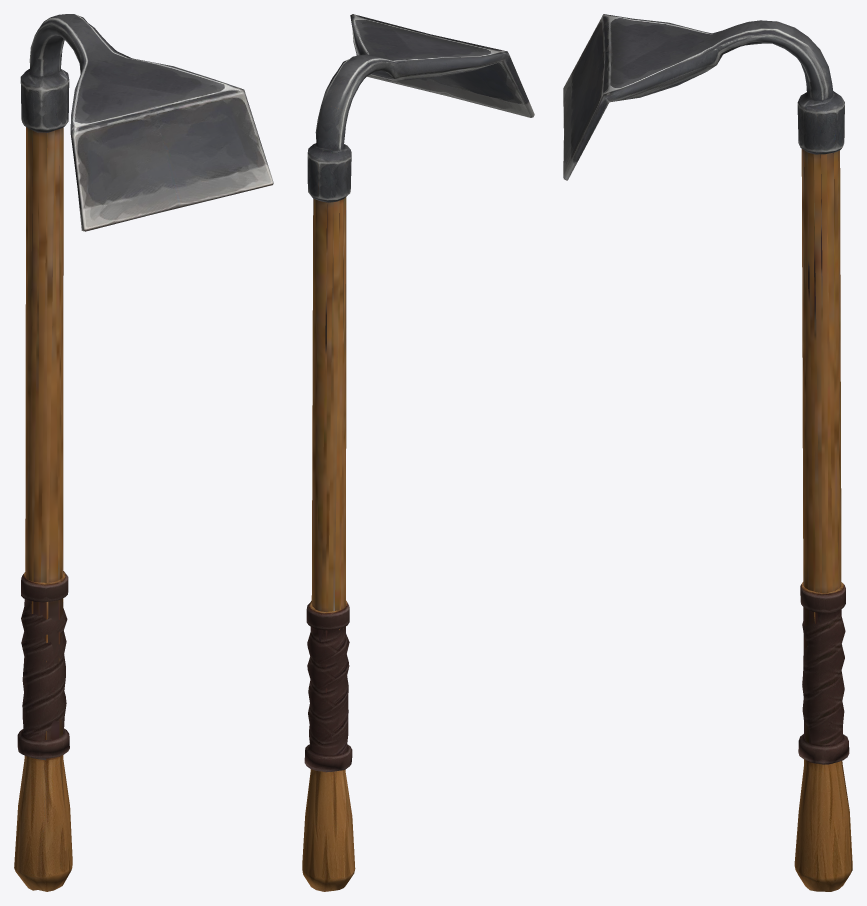
File: azada.glb
The picture shows the model from 3 angles, left to right: view 1: azimuth 30°, elevation 25°; view 2: azimuth 150°, elevation 25°; view 3: azimuth 270°, elevation 25°; orthographic projection. The views are drawn at different scales.
Parts seen in each view (by area): view 1: 0; view 2: 0; view 3: 0.
Part boxes in pixels (box(x1,y1,x2,y2)): 0: box(14, 14, 273, 891); 0: box(302, 14, 534, 891); 0: box(563, 14, 852, 891).
Size of the model in its own units: 0.2258 by 1 by 0.3044.
Materials: 1 (1 with a texture image).
